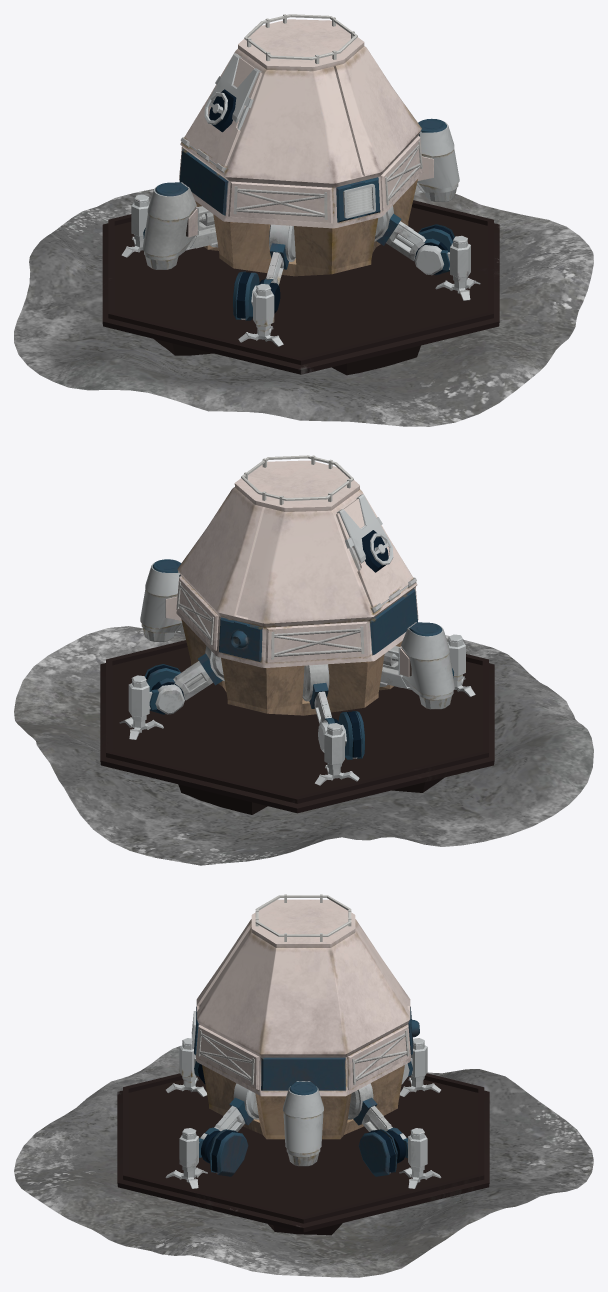
File: MoonLander_Full.fbx
The picture shows the model from 3 angles, top to bottom: view 1: azimuth 30°, elevation 25°; view 2: azimuth 150°, elevation 25°; view 3: azimuth 270°, elevation 25°; orthographic projection. The views are drawn at different scales.
Parts seen in each view (by area): view 1: Terreno, Plataforma, Nave_Base, Patas, Nave_SeccionInferior, Turbina, Base_Puerta, Resistencias, Base_Plataforma, Detalle_Puerta, Hierro_Superior, Tapa (+2 smaller); view 2: Terreno, Plataforma, Nave_Base, Patas, Nave_SeccionInferior, Turbina, Base_Puerta, Resistencias, Base_Plataforma, Detalle_Puerta, Hierro_Superior, Tapa (+2 smaller); view 3: Terreno, Plataforma, Nave_Base, Patas, Nave_SeccionInferior, Turbina, Resistencias, Hierro_Superior.
Part boxes in pixels (x1,y1,x2,y2): Terreno: (14, 189, 593, 426); Plataforma: (102, 200, 499, 374); Nave_Base: (179, 19, 423, 228); Patas: (121, 194, 480, 346); Nave_SeccionInferior: (195, 179, 417, 276); Turbina: (142, 121, 459, 260); Base_Puerta: (184, 54, 262, 167); Resistencias: (179, 141, 422, 219); Base_Plataforma: (154, 339, 420, 375); Detalle_Puerta: (211, 53, 261, 122); Hierro_Superior: (244, 14, 357, 60); Tapa: (155, 118, 446, 196); Terreno: (14, 626, 593, 865); Plataforma: (100, 640, 494, 813); Nave_Base: (176, 460, 418, 667); Patas: (119, 634, 475, 785); Nave_SeccionInferior: (181, 619, 402, 715); Turbina: (140, 562, 454, 699); Base_Puerta: (336, 495, 413, 607); Resistencias: (176, 581, 417, 659); Base_Plataforma: (178, 777, 444, 814); Detalle_Puerta: (337, 494, 386, 563); Hierro_Superior: (241, 455, 353, 500); Tapa: (152, 559, 442, 636); Terreno: (14, 1046, 593, 1277); Plataforma: (117, 1073, 489, 1232); Nave_Base: (194, 899, 413, 1096); Patas: (165, 1038, 441, 1188); Nave_SeccionInferior: (202, 1065, 404, 1139); Turbina: (283, 1086, 323, 1157); Resistencias: (197, 1030, 409, 1084); Hierro_Superior: (255, 895, 351, 936).
Size of the model in its own units: 12.87 by 6.44 by 12.94.
